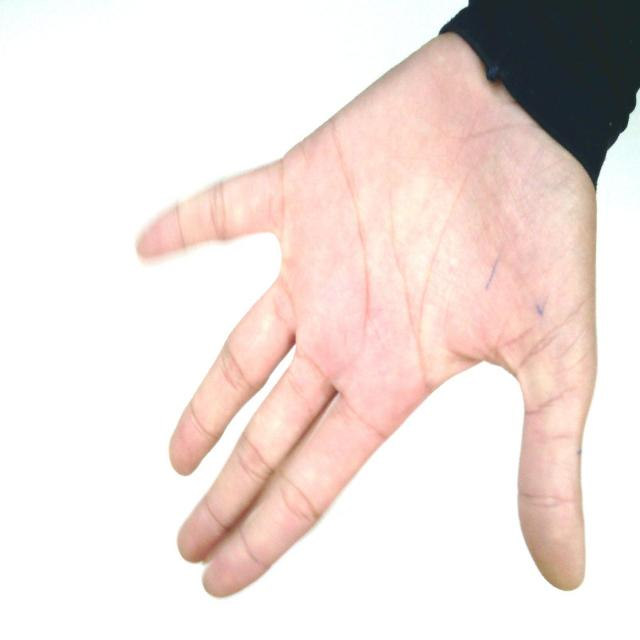others: (117, 0, 640, 622)
